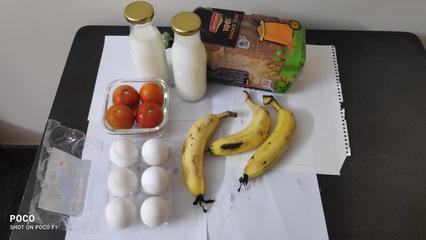banana: (221, 98, 295, 188), (180, 108, 217, 208)
bread: (191, 4, 315, 87)
eggs: (104, 138, 165, 228)
milk: (117, 3, 171, 81), (166, 11, 210, 104)
tomato: (104, 82, 163, 129)
